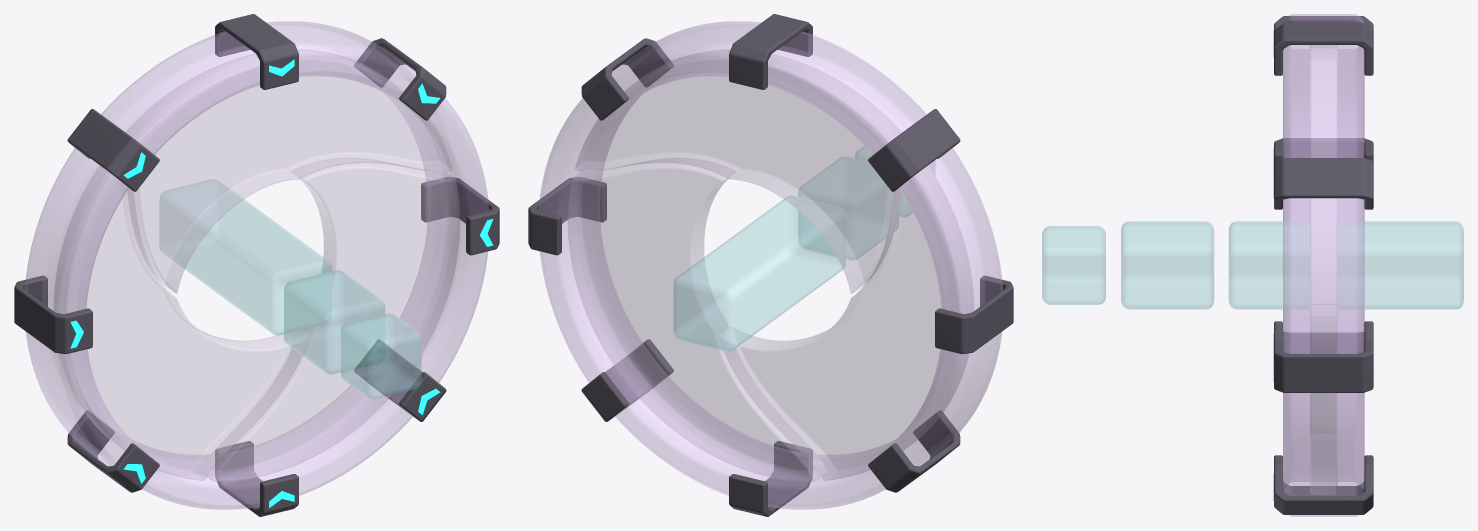
The model's file is api-gateway.glb.
3 views of the same model, side by side, from view 1: azimuth 30°, elevation 25°; view 2: azimuth 150°, elevation 25°; view 3: azimuth 270°, elevation 25° (orthographic).
Parts seen in each view (by area): view 1: Aperture rim, Iris blade 03, Iris blade 01, Iris blade 02, Packet - entering, Packet - stretching, Packet - cube, Titanium clasp 07, Titanium clasp 03, Titanium clasp 01, Titanium clasp 05, Titanium clasp 08 (+3 smaller); view 2: Aperture rim, Iris blade 02, Iris blade 03, Iris blade 01, Packet - entering, Packet - stretching, Titanium clasp 07, Titanium clasp 03, Titanium clasp 01, Titanium clasp 05, Titanium clasp 08, Titanium clasp 04 (+2 smaller); view 3: Aperture rim, Packet - entering, Packet - stretching, Iris blade 01, Packet - cube, Titanium clasp 02, Iris blade 02, Titanium clasp 03, Titanium clasp 01, Titanium clasp 04, Titanium clasp 06, Titanium clasp 07 (+2 smaller).
Boxes of the visible parts, x1=… form: Aperture rim: x1=25, y1=21, x2=488, y2=509; Iris blade 03: x1=54, y1=166, x2=308, y2=480; Iris blade 01: x1=126, y1=49, x2=452, y2=293; Iris blade 02: x1=206, y1=158, x2=459, y2=481; Packet - entering: x1=159, y1=179, x2=331, y2=335; Packet - stretching: x1=284, y1=270, x2=384, y2=374; Packet - cube: x1=341, y1=313, x2=421, y2=398; Titanium clasp 07: x1=14, y1=275, x2=92, y2=353; Titanium clasp 03: x1=421, y1=177, x2=499, y2=255; Titanium clasp 01: x1=215, y1=14, x2=298, y2=89; Titanium clasp 05: x1=215, y1=441, x2=298, y2=516; Titanium clasp 08: x1=67, y1=109, x2=159, y2=191; Aperture rim: x1=539, y1=21, x2=1002, y2=509; Iris blade 02: x1=568, y1=158, x2=821, y2=481; Iris blade 03: x1=719, y1=166, x2=973, y2=480; Iris blade 01: x1=575, y1=49, x2=901, y2=293; Packet - entering: x1=673, y1=195, x2=845, y2=351; Packet - stretching: x1=798, y1=156, x2=898, y2=260; Titanium clasp 07: x1=935, y1=275, x2=1013, y2=353; Titanium clasp 03: x1=528, y1=177, x2=606, y2=255; Titanium clasp 01: x1=729, y1=14, x2=812, y2=89; Titanium clasp 05: x1=729, y1=441, x2=812, y2=516; Titanium clasp 08: x1=868, y1=109, x2=960, y2=191; Titanium clasp 04: x1=581, y1=339, x2=673, y2=421; Aperture rim: x1=1283, y1=14, x2=1364, y2=516; Packet - entering: x1=1229, y1=221, x2=1463, y2=309; Packet - stretching: x1=1121, y1=221, x2=1213, y2=309; Iris blade 01: x1=1310, y1=45, x2=1337, y2=304; Packet - cube: x1=1042, y1=226, x2=1105, y2=304; Titanium clasp 02: x1=1274, y1=158, x2=1373, y2=209; Iris blade 02: x1=1310, y1=304, x2=1337, y2=494; Titanium clasp 03: x1=1274, y1=339, x2=1373, y2=392; Titanium clasp 01: x1=1274, y1=23, x2=1373, y2=75; Titanium clasp 04: x1=1274, y1=464, x2=1373, y2=514; Titanium clasp 06: x1=1274, y1=321, x2=1373, y2=353; Titanium clasp 07: x1=1274, y1=138, x2=1373, y2=162.
Size of the model in its own units: 2.18 by 2.18 by 1.78.
